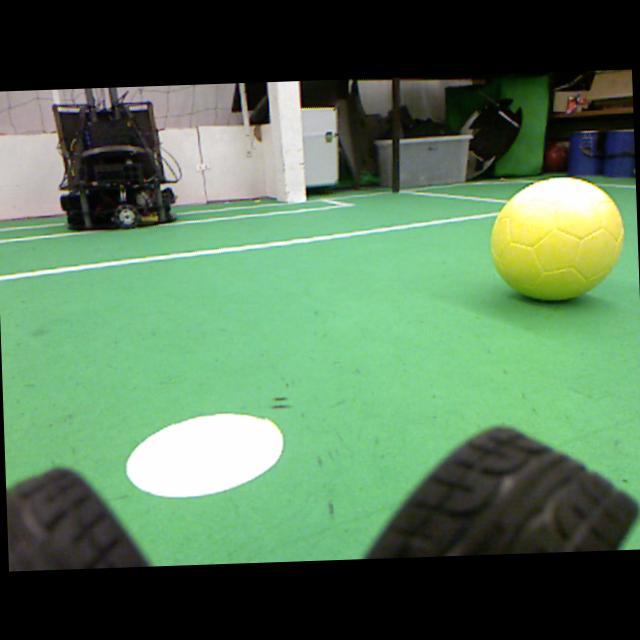ball: (491, 176, 622, 299)
goal: (277, 81, 306, 203)
robot: (52, 88, 178, 231)
